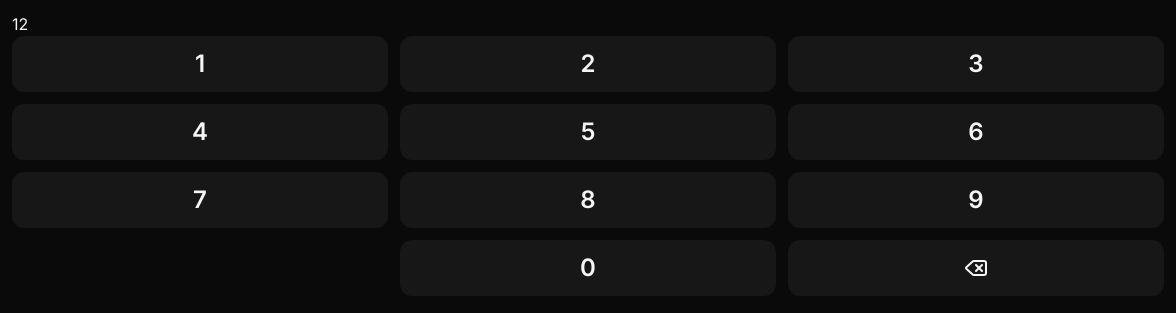
Scenario: AmountKeypad › backspaces down to "0"
This screenshot has width=1176, height=313.
Click the button named "Delete last digit". click: (976, 268)
box: [788,240,1164,296]
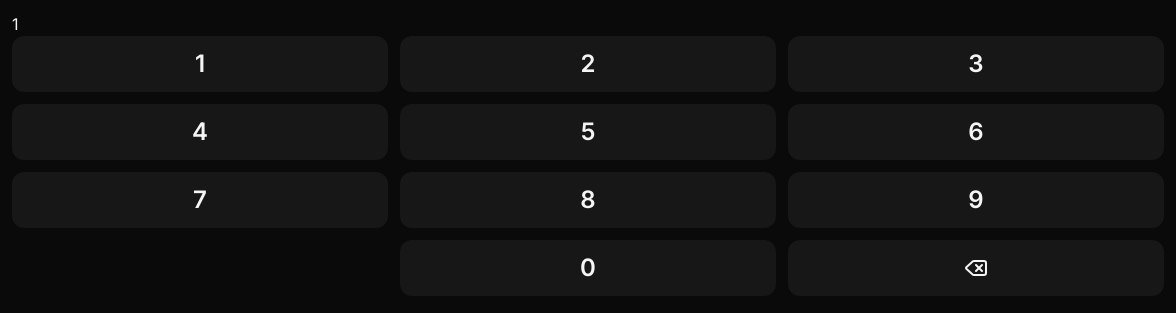
expect the text with test id "value" reads "1": met, box [12,14,18,34]
Click the button named "Delete last digit". click: (976, 268)
box: [788,240,1164,296]
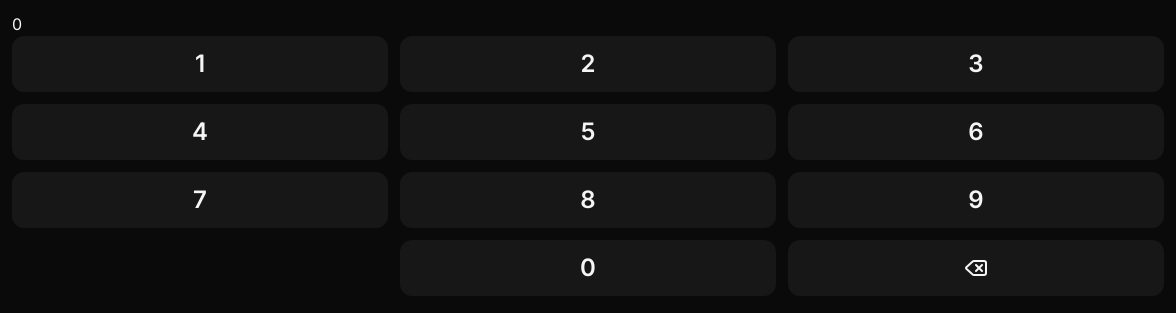
expect the text with test id "value" reads "0": met, box [12,14,22,34]
